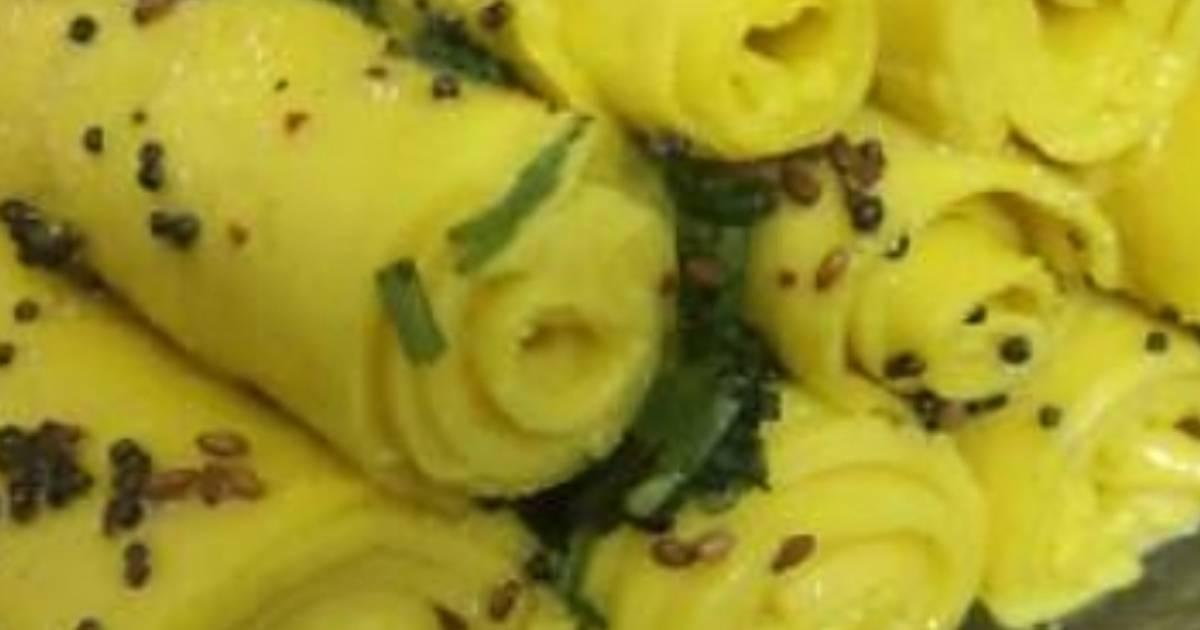khandvi: (2, 3, 1200, 630)
